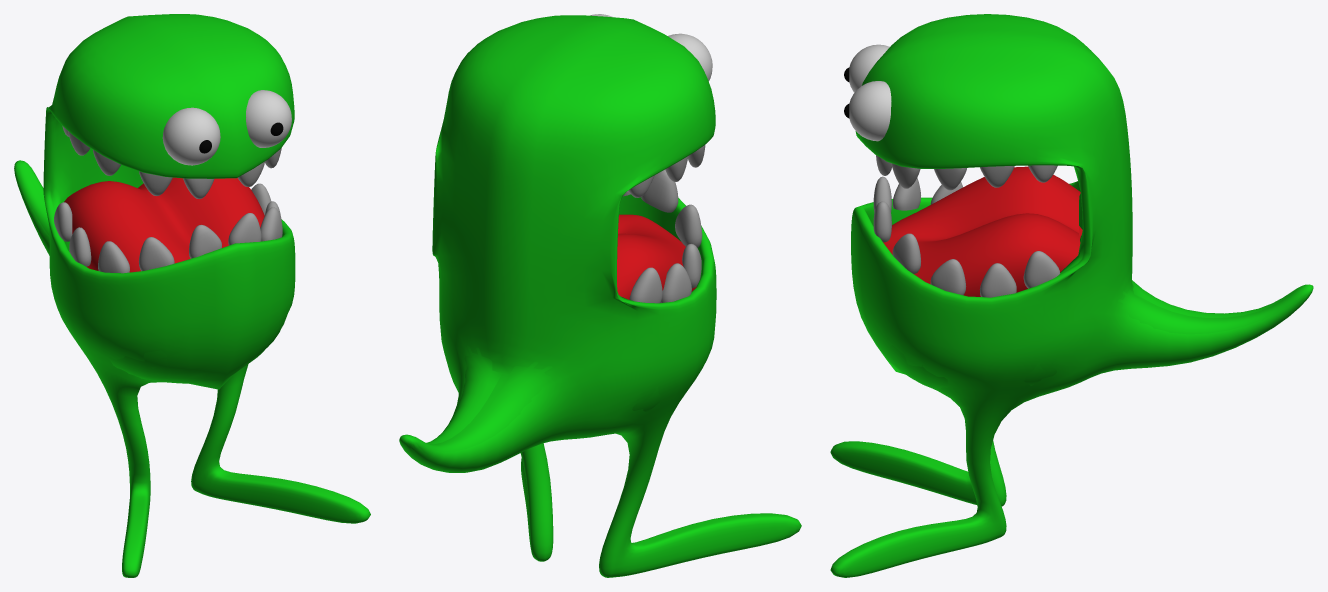
Rendered from greenmonster.obj.
The picture shows the model from 3 angles, left to right: view 1: azimuth 30°, elevation 25°; view 2: azimuth 150°, elevation 25°; view 3: azimuth 270°, elevation 25°; orthographic projection. The views are drawn at different scales.
Visible parts, largest first — view 1: Cube, Cube.001, Sphere, Cube.003, Cube.008, Cube.010, Cube.009, Cube.002, Cube.004, Cube.011; view 2: Cube, Cube.001, Cube.003, Cube.008, Cube.011, Cube.010, Sphere, Cube.009; view 3: Cube, Cube.001, Sphere, Cube.008, Cube.009, Cube.003, Cube.010, Cube.011.
Part boxes in pixels (left/top/right/bottom): Cube: left=14, top=14, right=370, bottom=577; Cube.001: left=64, top=177, right=264, bottom=272; Sphere: left=162, top=90, right=291, bottom=165; Cube.003: left=189, top=213, right=261, bottom=258; Cube.008: left=138, top=207, right=282, bottom=271; Cube.010: left=69, top=183, right=271, bottom=266; Cube.009: left=98, top=201, right=281, bottom=273; Cube.002: left=183, top=161, right=264, bottom=198; Cube.004: left=139, top=148, right=281, bottom=195; Cube.011: left=54, top=202, right=72, bottom=241; Cube: left=399, top=15, right=801, bottom=577; Cube.001: left=617, top=214, right=696, bottom=299; Cube.003: left=623, top=169, right=678, bottom=212; Cube.008: left=675, top=204, right=702, bottom=247; Cube.011: left=629, top=267, right=662, bottom=303; Cube.010: left=660, top=263, right=691, bottom=302; Sphere: left=590, top=14, right=712, bottom=81; Cube.009: left=682, top=244, right=701, bottom=288; Cube: left=830, top=14, right=1313, bottom=577; Cube.001: left=883, top=166, right=1082, bottom=296; Sphere: left=849, top=44, right=891, bottom=141; Cube.008: left=892, top=178, right=920, bottom=273; Cube.009: left=930, top=182, right=966, bottom=295; Cube.003: left=873, top=176, right=891, bottom=242; Cube.010: left=980, top=263, right=1016, bottom=297; Cube.011: left=1023, top=251, right=1060, bottom=288.
Bounding box in the file's own units: 2.85 × 5.15 × 4.65.
